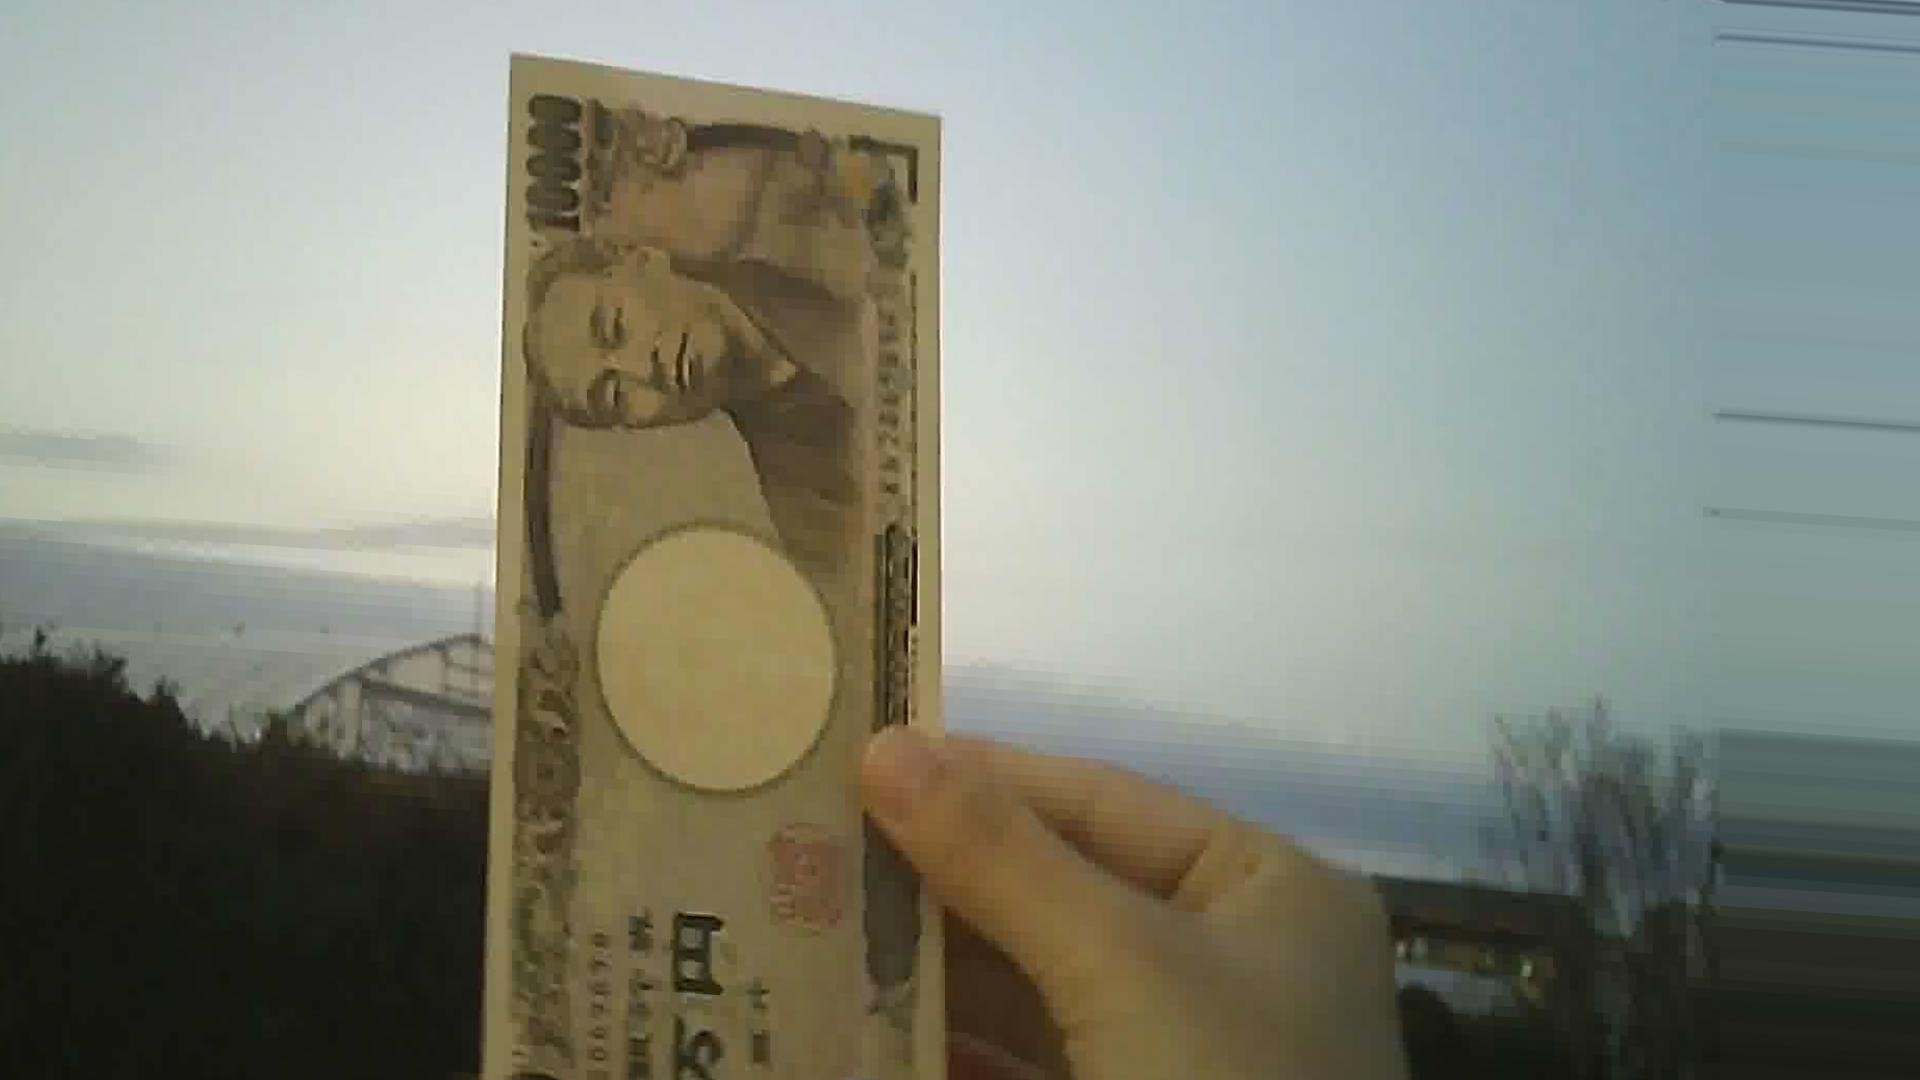10,000 Yen: (435, 54, 978, 1079)
